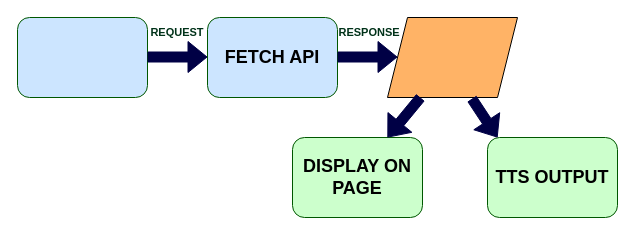
Image size: 635x235. Some labels were removed from this diagram. The shapes that lost their labels are listed below. From the top down, each one's box as (x1, y1, x2, y2) in pixels, then its label:
(16, 16, 148, 98): UI BUTTONS
(386, 16, 518, 98): WEATHER DATA
